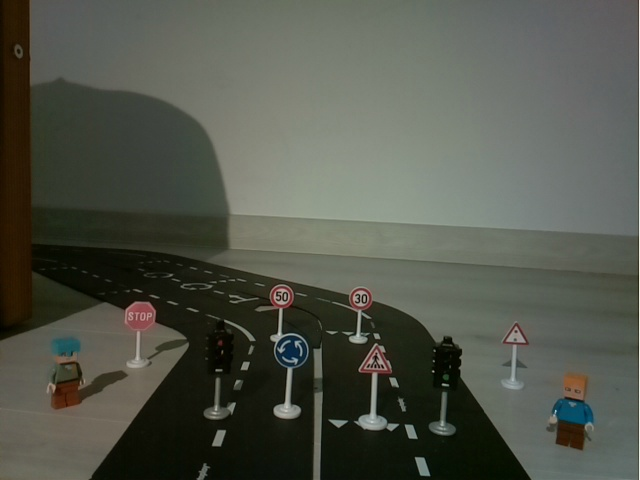green light: (423, 332, 466, 442)
limit 30: (345, 285, 373, 344)
limit 50: (266, 279, 294, 331)
pedestrian sign: (357, 346, 394, 433)
person: (544, 365, 602, 456)
red light: (201, 318, 239, 423)
round: (273, 333, 309, 423)
second person: (40, 333, 95, 414)
stop: (117, 296, 160, 370)
traffic light sign: (492, 315, 536, 398)
